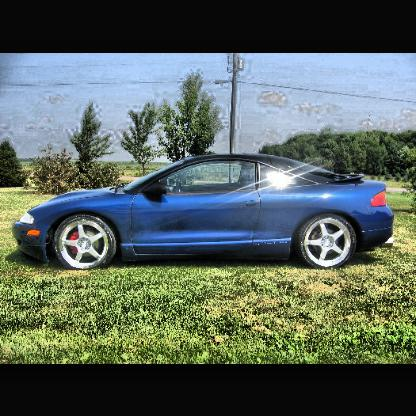Eagle Talon Hatchback 1998: (12, 153, 397, 287)
